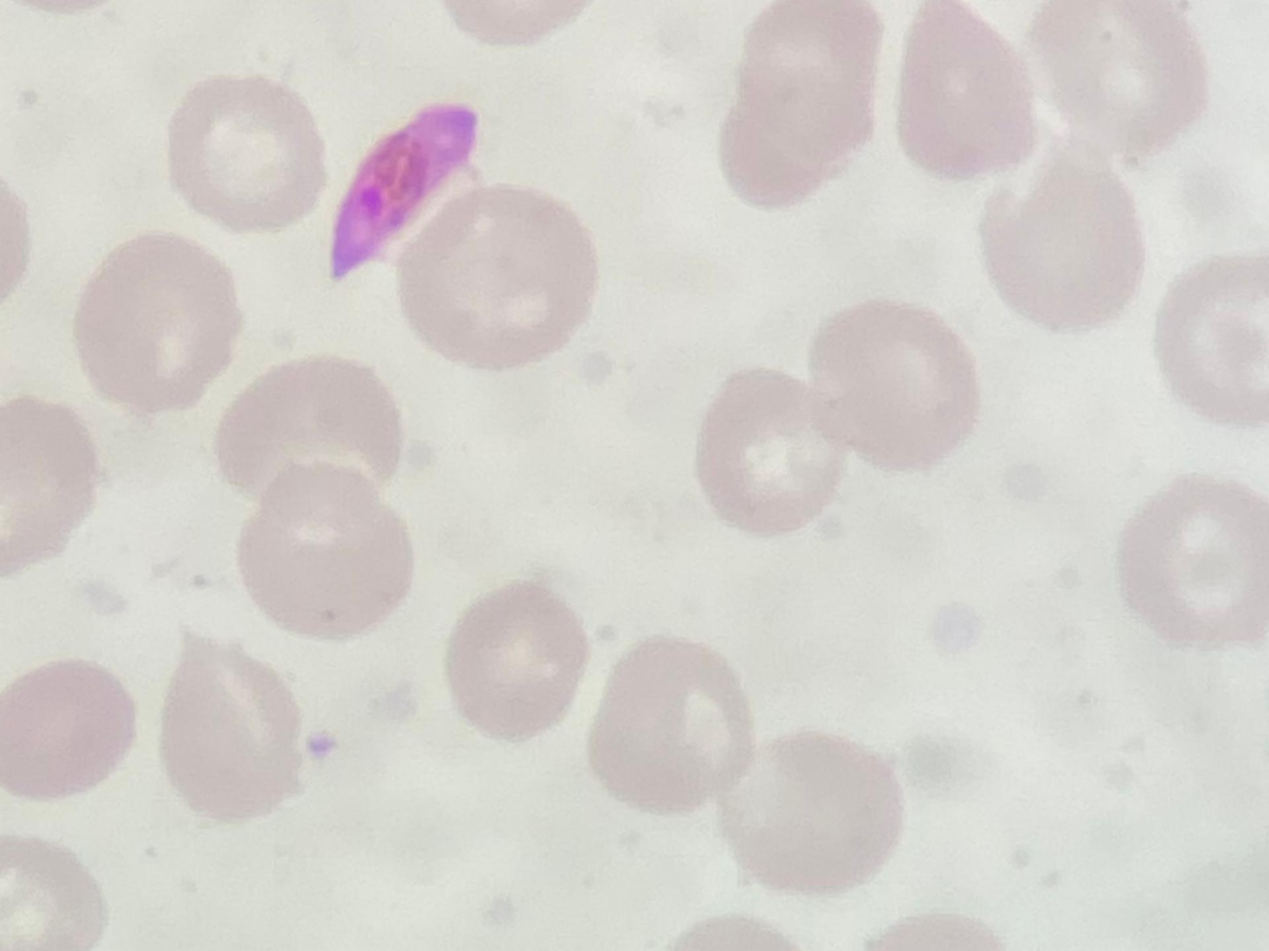Infected: (330, 100, 478, 278)
Uninfected: (397, 186, 601, 376), (722, 2, 881, 203), (236, 464, 415, 638), (73, 233, 241, 412), (587, 637, 753, 811), (728, 734, 907, 894), (809, 299, 980, 466), (983, 158, 1145, 332), (1032, 2, 1206, 161), (159, 634, 304, 823), (215, 355, 401, 496), (1113, 482, 1268, 647), (166, 73, 325, 230), (695, 369, 845, 533), (898, 1, 1036, 179), (442, 582, 592, 740), (0, 659, 132, 800), (3, 399, 96, 576)
